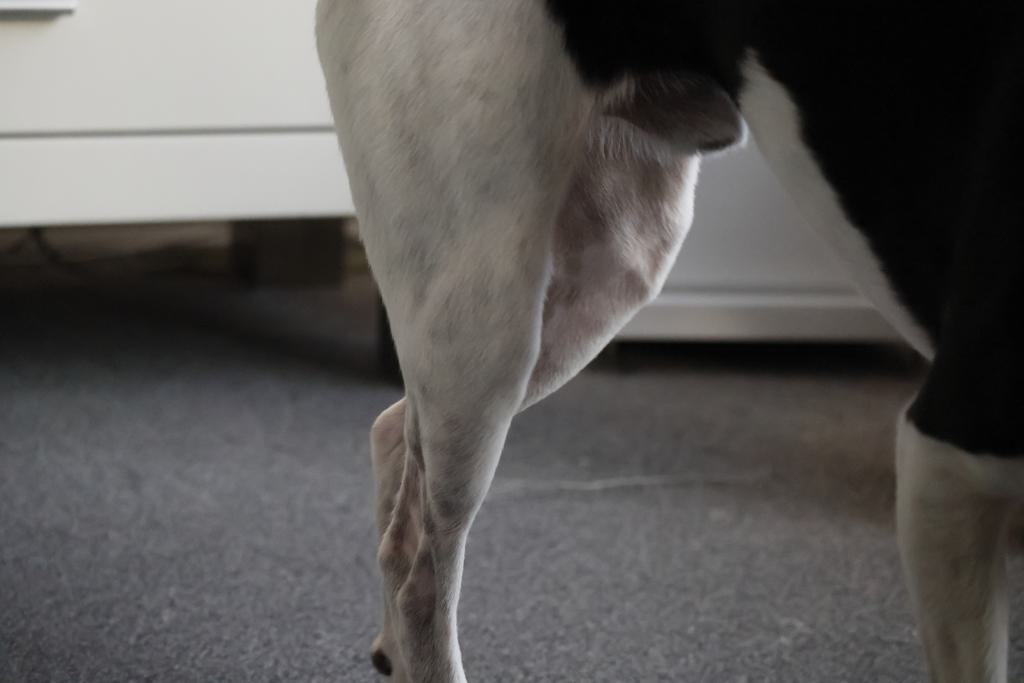Dog: (306, 0, 1024, 683)
